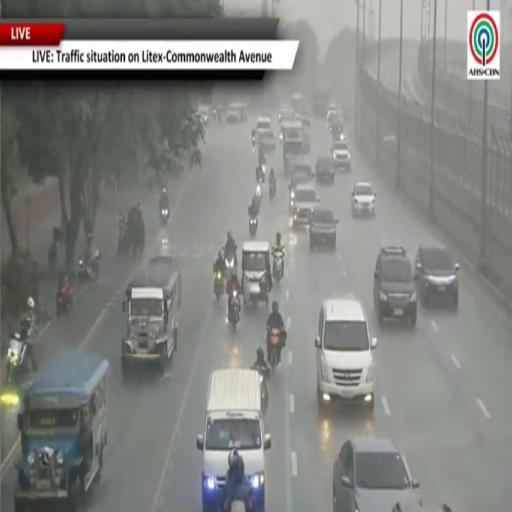car: (315, 297, 377, 412), (333, 437, 420, 511), (374, 247, 417, 325), (415, 246, 459, 309), (292, 184, 319, 229), (309, 208, 337, 250), (288, 172, 313, 210), (351, 182, 376, 215), (315, 156, 335, 184), (333, 140, 351, 171), (392, 502, 452, 511), (257, 128, 276, 152), (227, 103, 247, 123), (278, 104, 296, 124), (329, 119, 345, 141), (327, 103, 340, 122), (256, 117, 271, 133), (327, 110, 342, 125), (198, 105, 209, 125)
jeepney: (15, 351, 109, 511), (122, 284, 179, 377), (146, 255, 182, 306), (242, 242, 270, 305), (280, 119, 310, 154), (283, 131, 305, 174)
motorcycle: (6, 335, 26, 382), (78, 250, 100, 281), (269, 329, 282, 372), (257, 368, 269, 414), (57, 282, 73, 315), (228, 291, 240, 329), (20, 315, 37, 339), (117, 223, 129, 255), (48, 238, 58, 275), (225, 252, 237, 280), (273, 251, 284, 281), (214, 271, 224, 299), (230, 501, 250, 511), (249, 217, 257, 237), (161, 206, 169, 226), (255, 184, 262, 205), (257, 167, 264, 184), (270, 181, 276, 199), (252, 136, 255, 148)
truck: (122, 255, 181, 377), (282, 121, 308, 174)
